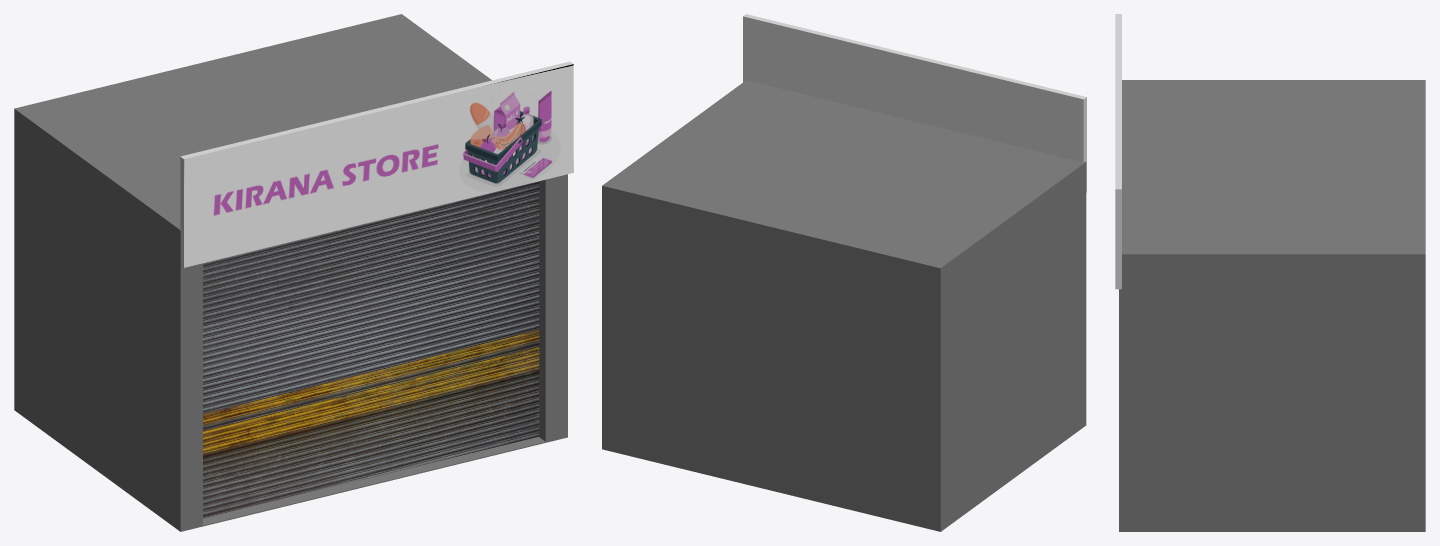
File: shop 1.fbx
3 renders of one model, left to right at view 1: azimuth 30°, elevation 25°; view 2: azimuth 150°, elevation 25°; view 3: azimuth 270°, elevation 25°, orthographic. The views are drawn at different scales.
Parts seen in each view (by area): view 1: pCube1, pPlane1, pCube16; view 2: pCube1, pCube16; view 3: pCube1, pCube16.
Boxes of the visible parts, x1=… form: pCube1: x1=14, y1=14, x2=567, y2=531; pPlane1: x1=203, y1=181, x2=539, y2=518; pCube16: x1=180, y1=61, x2=573, y2=267; pCube1: x1=602, y1=80, x2=1086, y2=531; pCube16: x1=743, y1=14, x2=1086, y2=192; pCube1: x1=1119, y1=80, x2=1425, y2=531; pCube16: x1=1115, y1=14, x2=1121, y2=289.
Bounding box in the file's own units: 6.4 × 5.85 × 4.77.
Materials: 4 (2 with a texture image).
